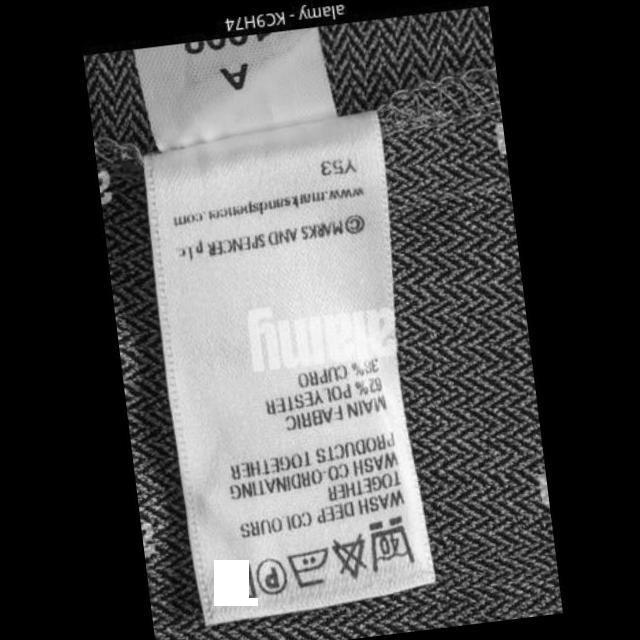40C: (361, 512, 416, 576)
DN_bleach: (327, 530, 371, 584)
iron_medium: (284, 546, 332, 590)
normal_dry_clean_solvents: (250, 552, 290, 598)
